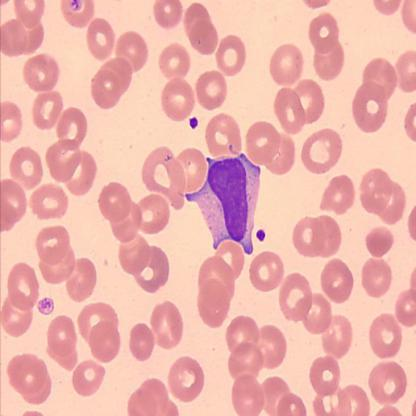Atypical lymphocyte: (187, 152, 259, 255)
